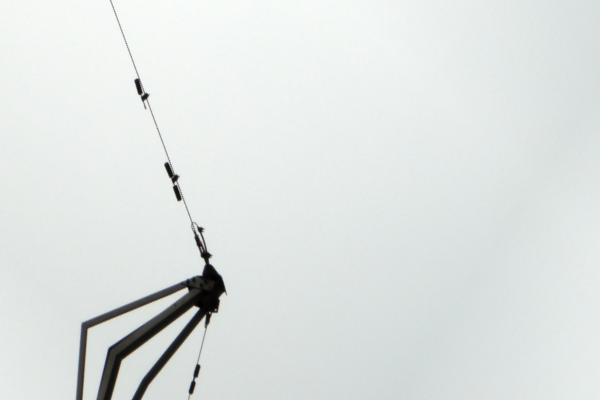damper: (161, 160, 184, 204), (186, 362, 201, 396)
damper_defect: (134, 78, 151, 112)
